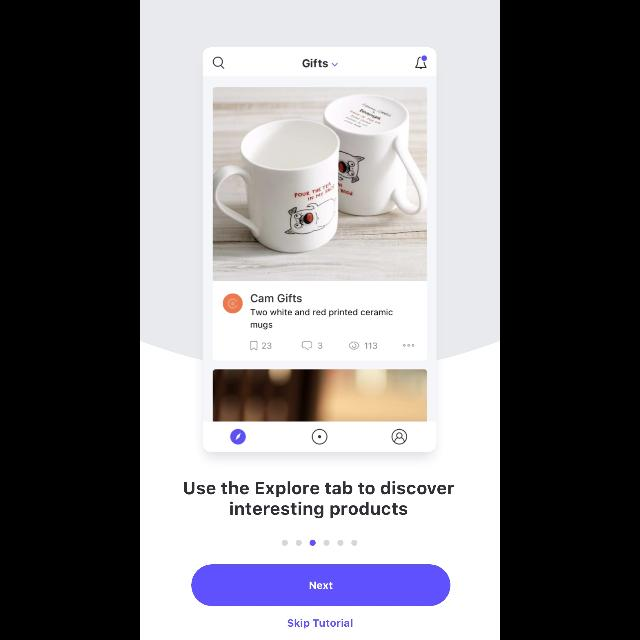image: (204, 48, 436, 452)
pageindicator: (282, 540, 358, 546)
text: (184, 482, 454, 518), (288, 618, 352, 628)
textbutton: (192, 564, 450, 606)
